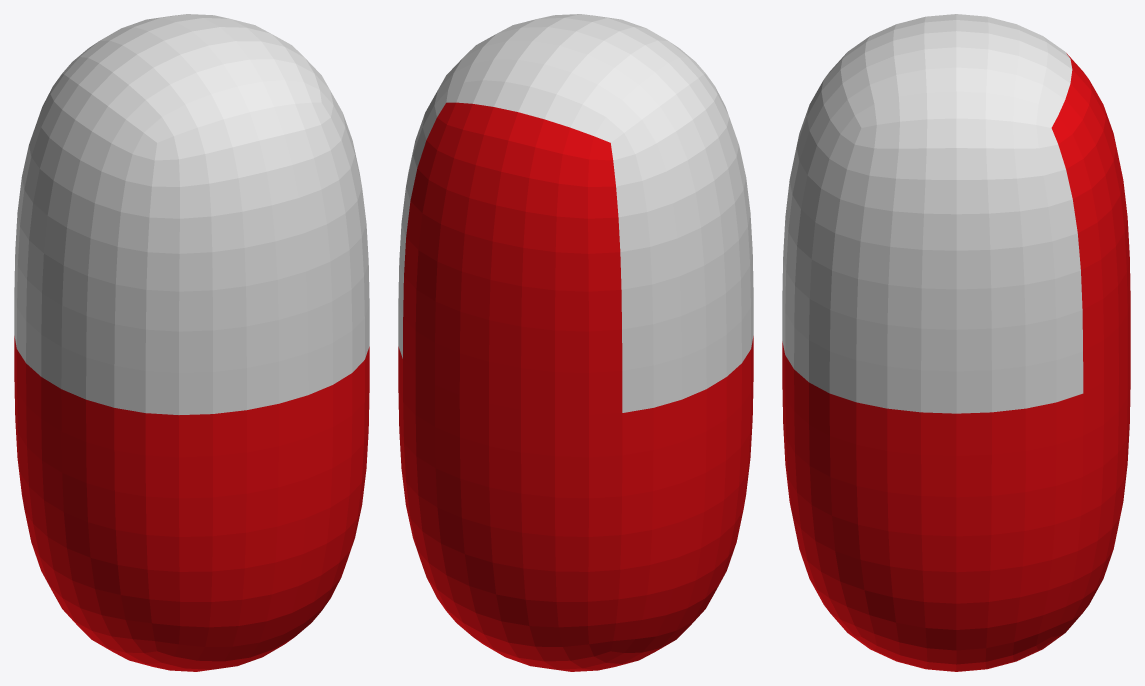
Rendered from Dwa.fbx.
The picture shows the model from 3 angles, left to right: view 1: azimuth 30°, elevation 25°; view 2: azimuth 150°, elevation 25°; view 3: azimuth 270°, elevation 25°; orthographic projection.
Parts seen in each view (by area): view 1: Cube; view 2: Cube; view 3: Cube.
Part boxes in pixels (x1=…): Cube: x1=14, y1=14, x2=369, y2=671; Cube: x1=398, y1=14, x2=753, y2=671; Cube: x1=782, y1=14, x2=1130, y2=671.
Size of the model in its own units: 96.42 by 190 by 96.42.
